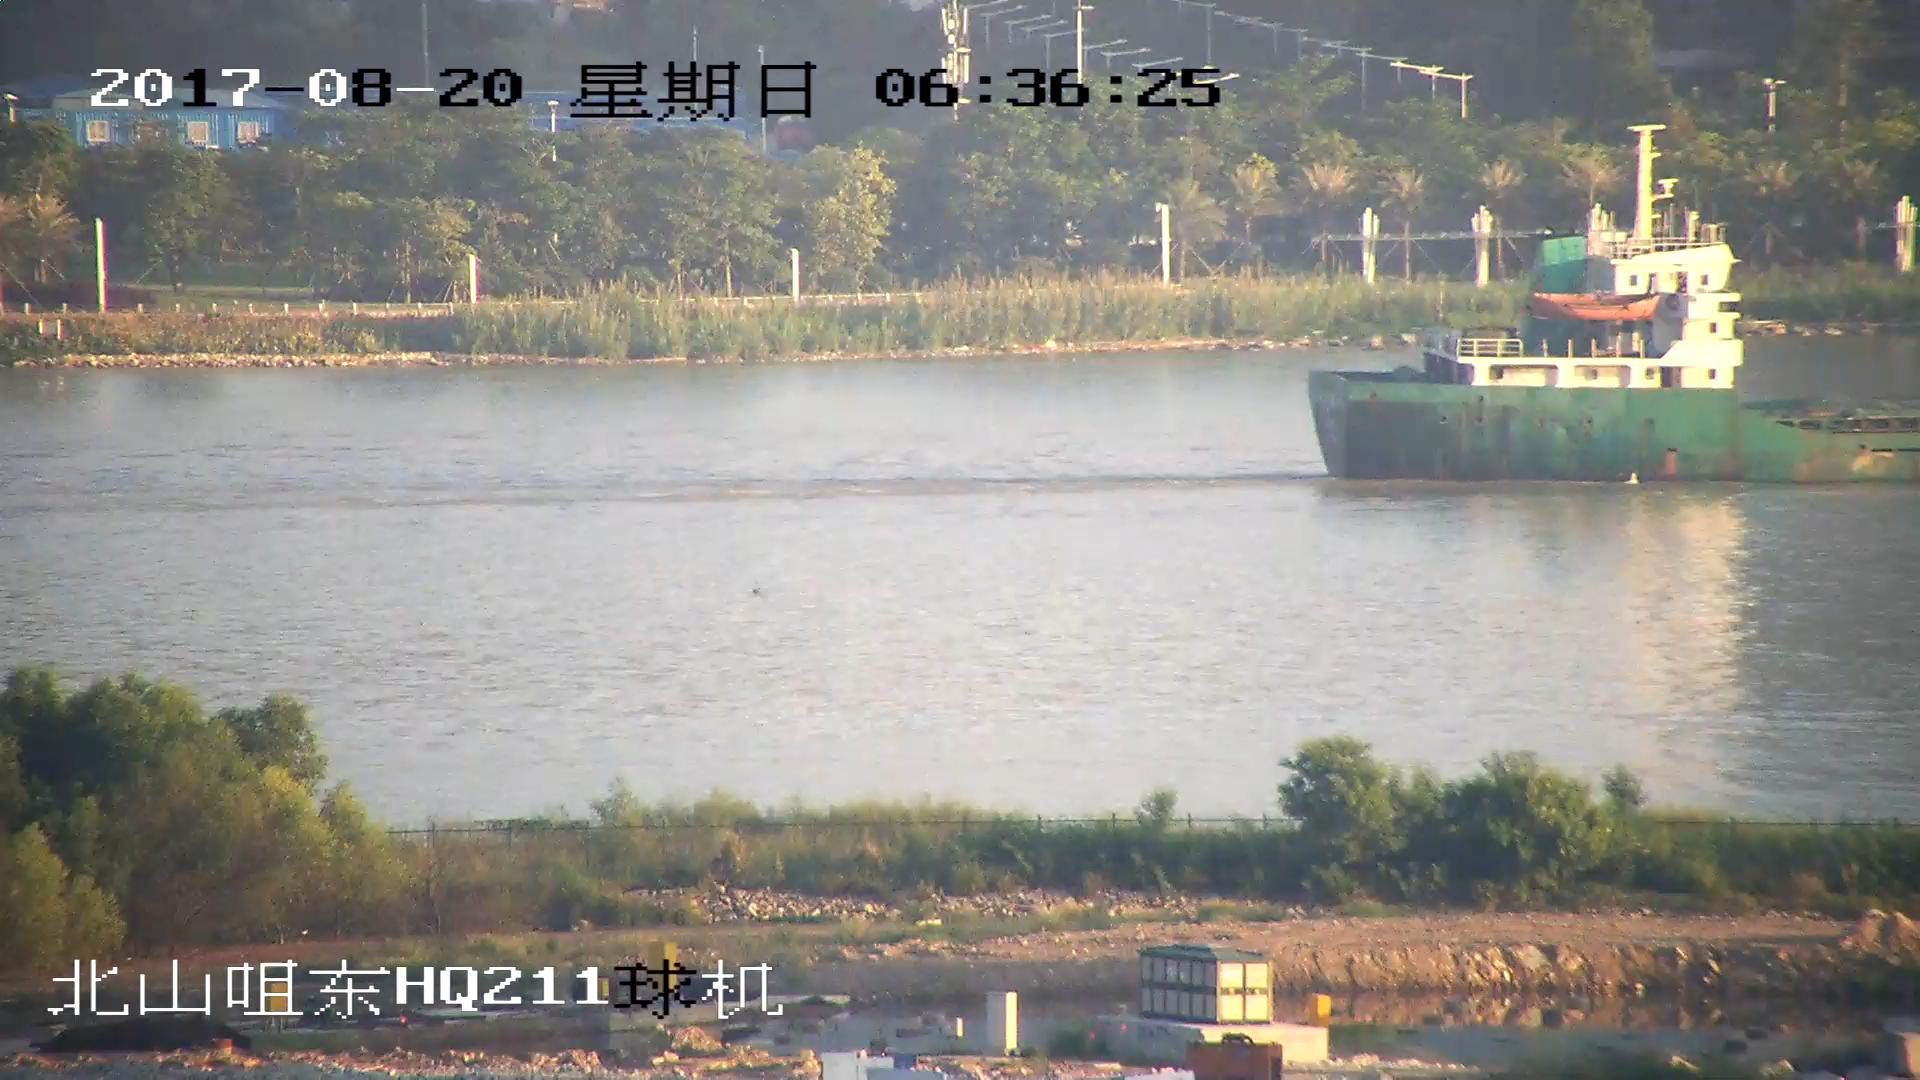general cargo ship: (1309, 116, 1920, 487)
